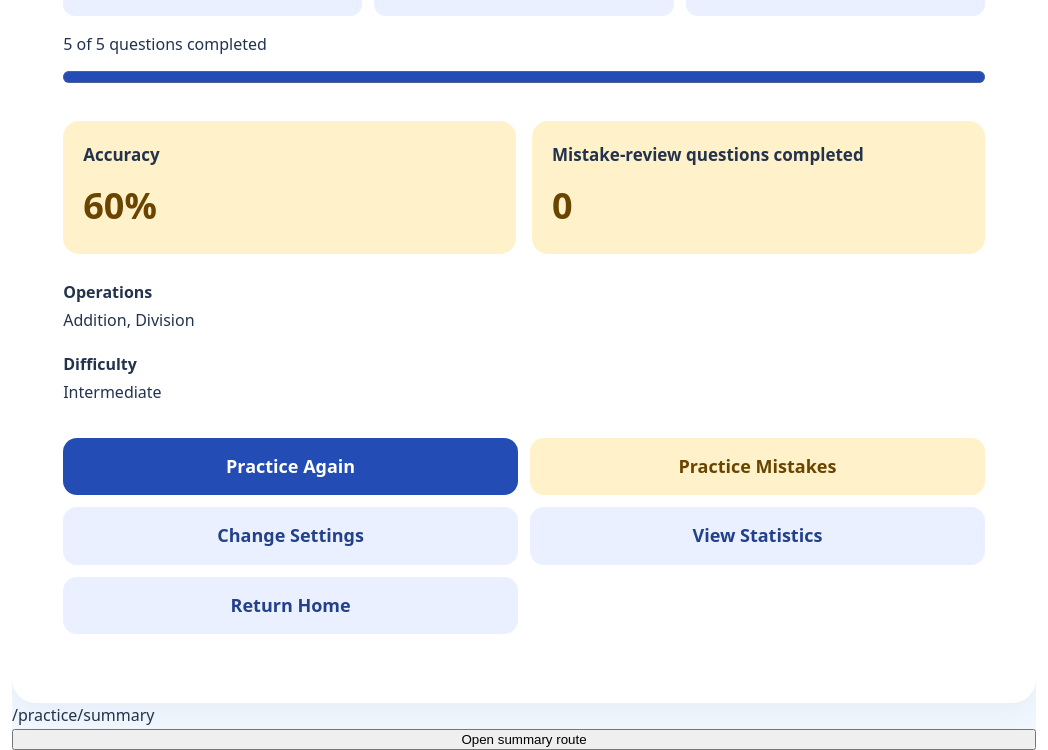
it: summary details and actions › Change Settings navigates to /practice/setup
The width and height of the screenshot is (1048, 750).
(page scrolled)
Click the link "Change Settings" at (291, 536), box [63, 507, 518, 565]
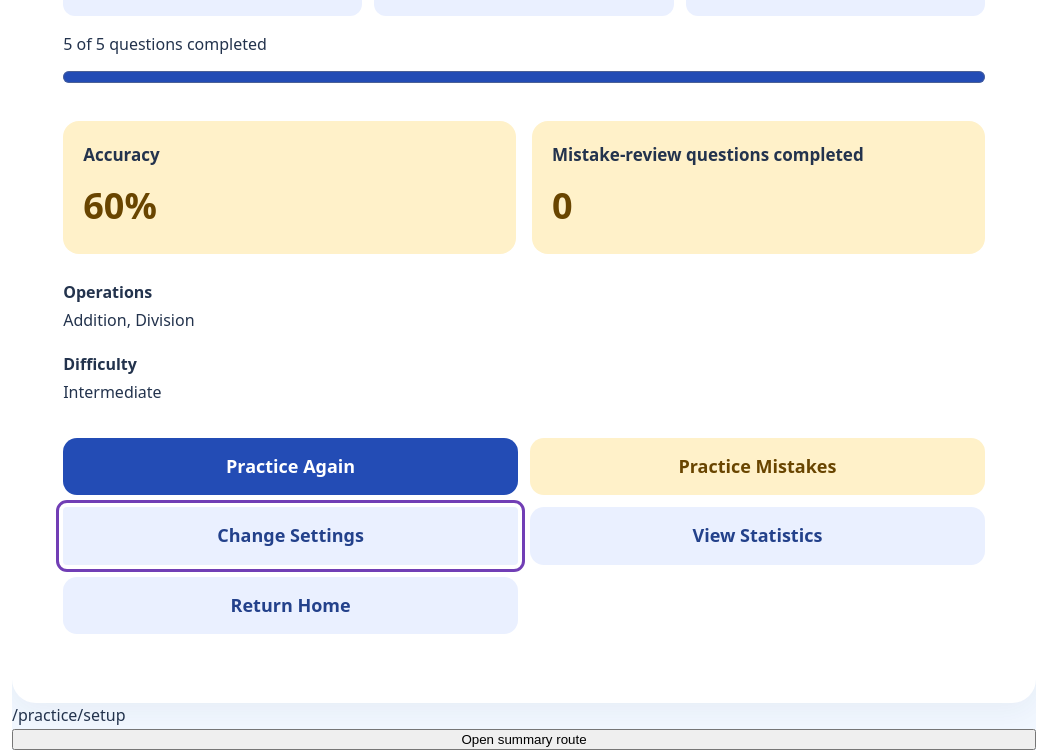
Expected: the text named "Current route" reads "/practice/setup", [12, 704, 126, 726]
